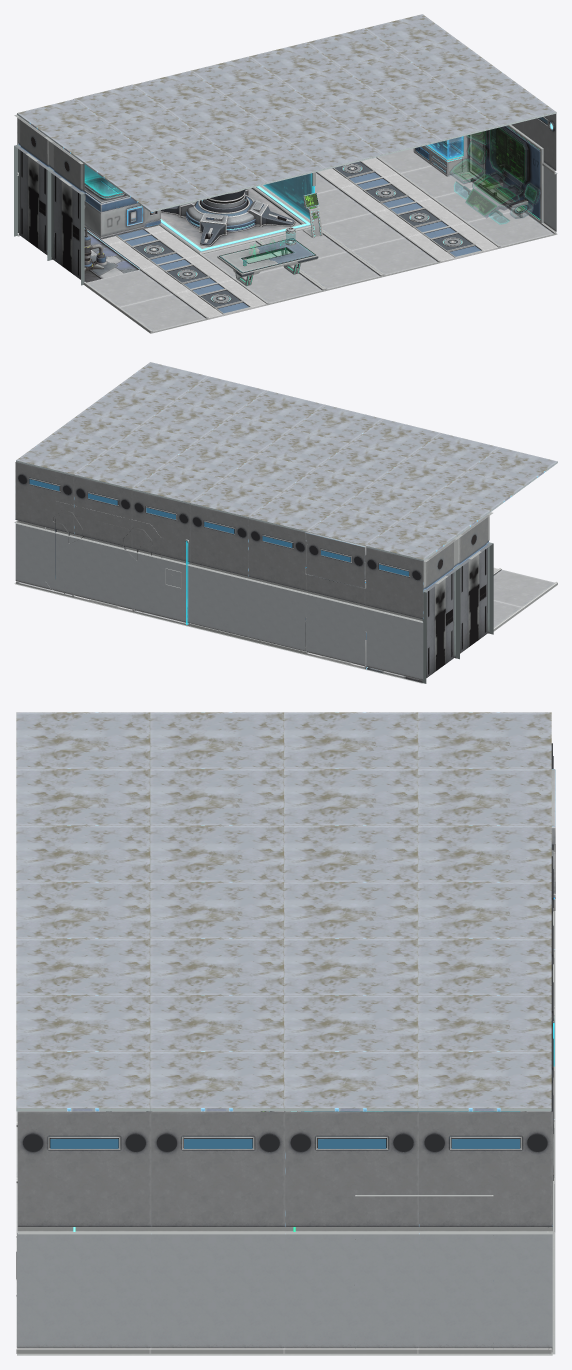
The model's file is lab.glb.
3 renders of one model, top to bottom at view 1: azimuth 30°, elevation 25°; view 2: azimuth 150°, elevation 25°; view 3: azimuth 270°, elevation 25°, orthographic. The views are drawn at different scales.
Parts seen in each view (by area): view 1: enviro_labobjcleanermaterialmergergles; view 2: enviro_labobjcleanermaterialmergergles; view 3: enviro_labobjcleanermaterialmergergles.
Part boxes in pixels (x1=…): enviro_labobjcleanermaterialmergergles: x1=14, y1=14, x2=557, y2=333; enviro_labobjcleanermaterialmergergles: x1=14, y1=362, x2=557, y2=683; enviro_labobjcleanermaterialmergergles: x1=16, y1=712, x2=555, y2=1355.
Size of the model in its own units: 14.16 by 4.05 by 8.06.
Materials: 28 (24 with a texture image).
